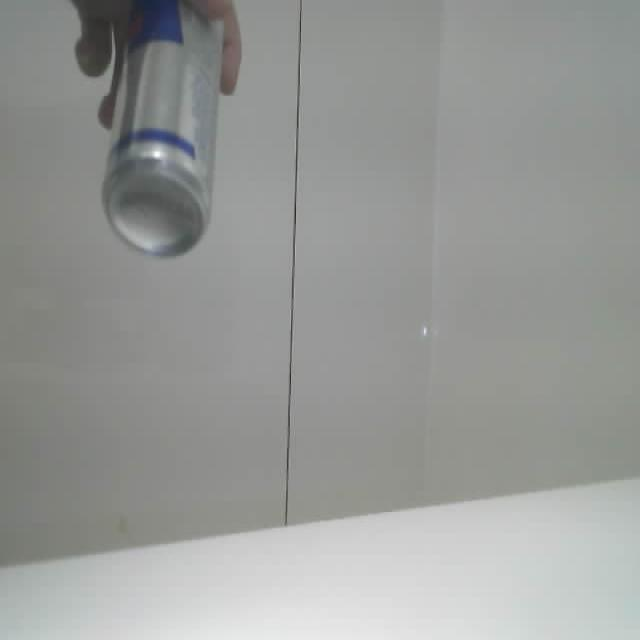redbull can: (103, 0, 222, 255)
